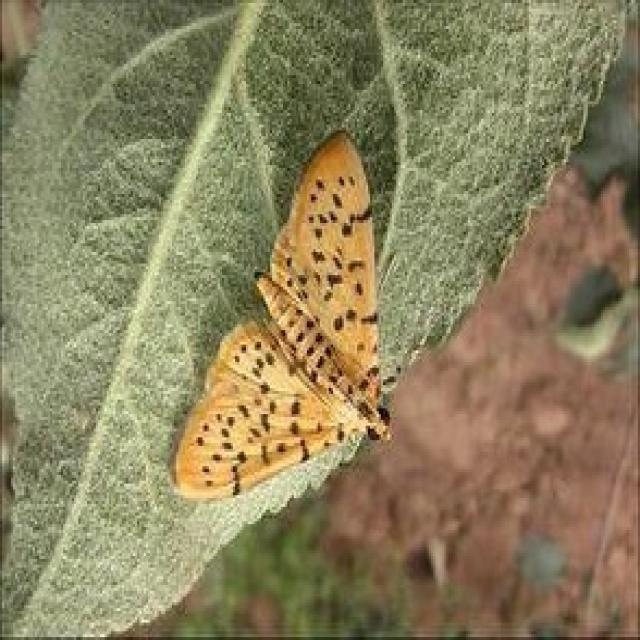peach borer: (169, 127, 404, 501)
